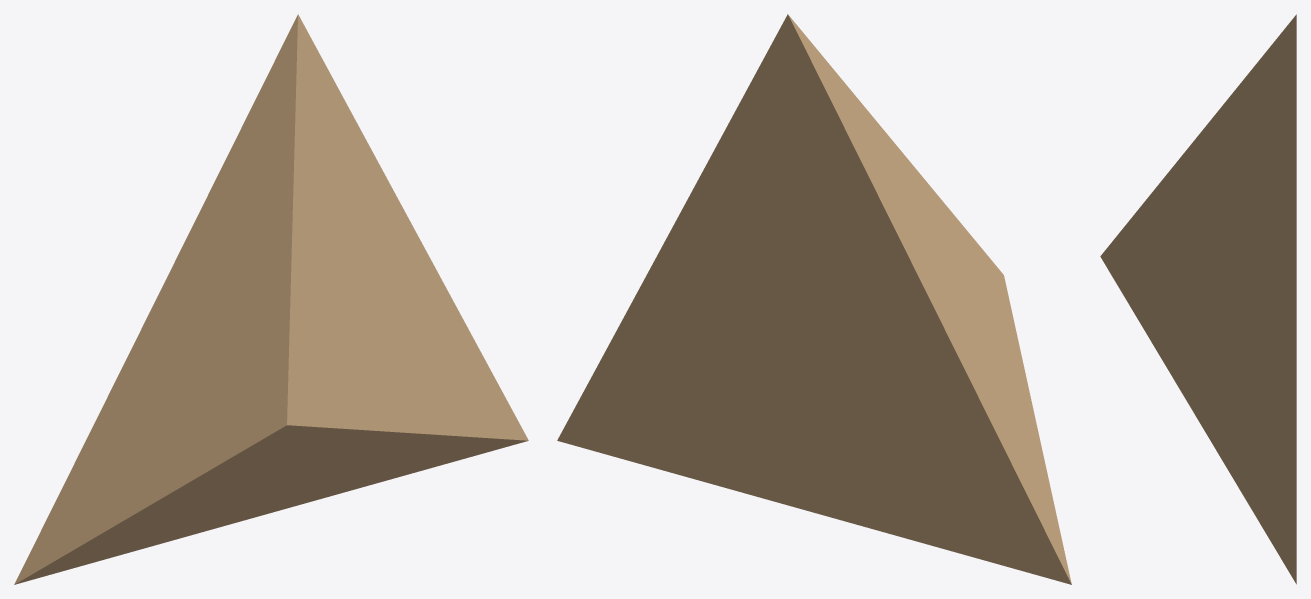
Rendered from wall-volume.glb.
3 views of the same model, side by side, from view 1: azimuth 30°, elevation 25°; view 2: azimuth 150°, elevation 25°; view 3: azimuth 270°, elevation 25° (orthographic). The views are drawn at different scales.
Visible parts, largest first — view 1: wall-volume.001; view 2: wall-volume.001; view 3: wall-volume.001.
Boxes of the visible parts, x1,y1,x2,y2 form: wall-volume.001: (14, 14, 528, 584); wall-volume.001: (557, 14, 1071, 584); wall-volume.001: (1100, 14, 1296, 584).
Size of the model in its own units: 1.45 by 1.35 by 0.5.
